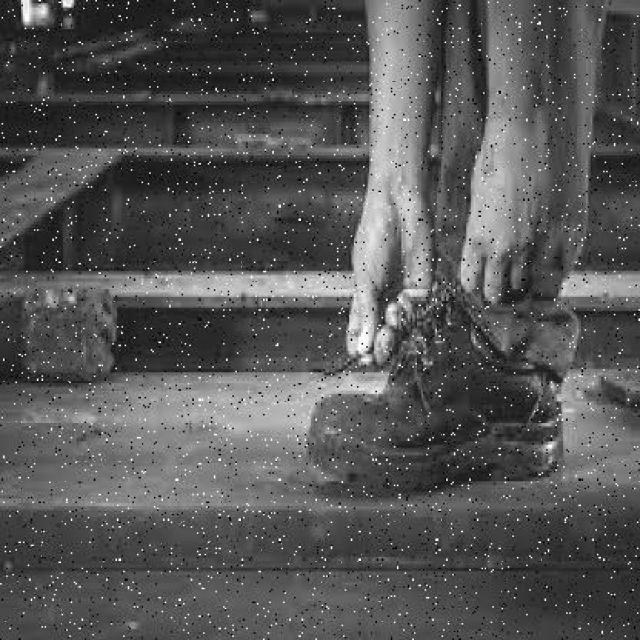shoes: (313, 292, 573, 493)
